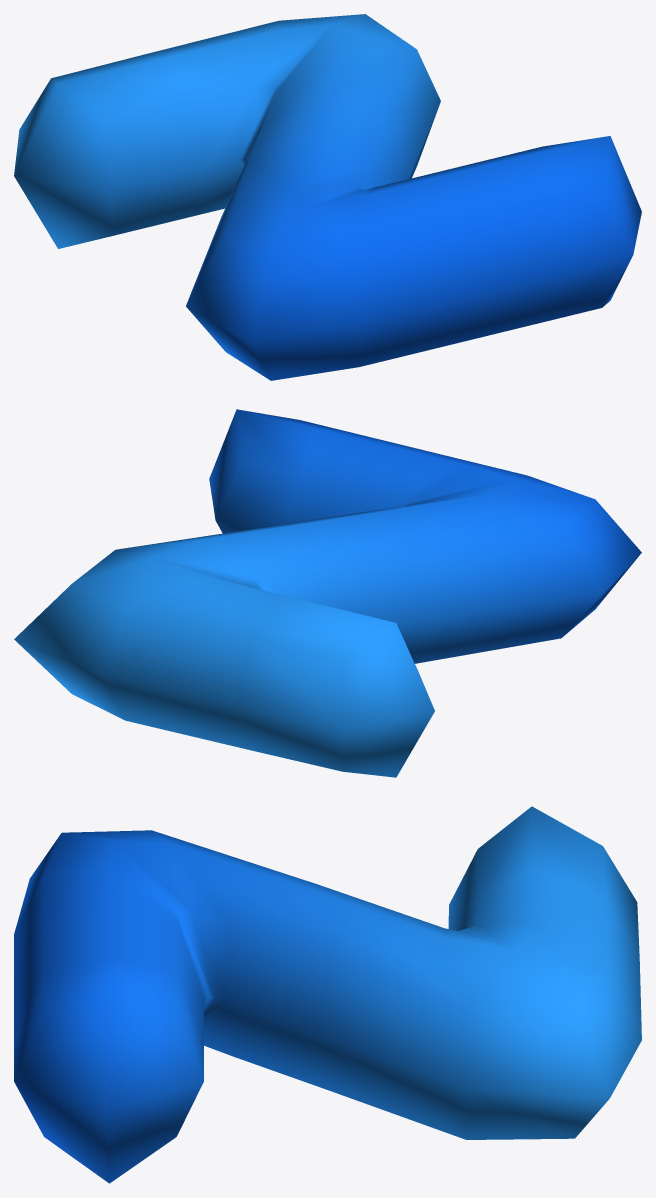
The model's file is CartoonFont_Z.FBX.
3 views of the same model, one above another, from view 1: azimuth 30°, elevation 25°; view 2: azimuth 150°, elevation 25°; view 3: azimuth 270°, elevation 25° (orthographic). The views are drawn at different scales.
Parts seen in each view (by area): view 1: Z; view 2: Z; view 3: Z.
Part boxes in pixels (box(x1,y1,x2,y2)): Z: box(14, 14, 641, 380); Z: box(14, 409, 641, 777); Z: box(14, 806, 641, 1183).
Bounding box in the file's own units: 26.85 × 9.64 × 30.07.
Materials: 1 (1 with a texture image).
